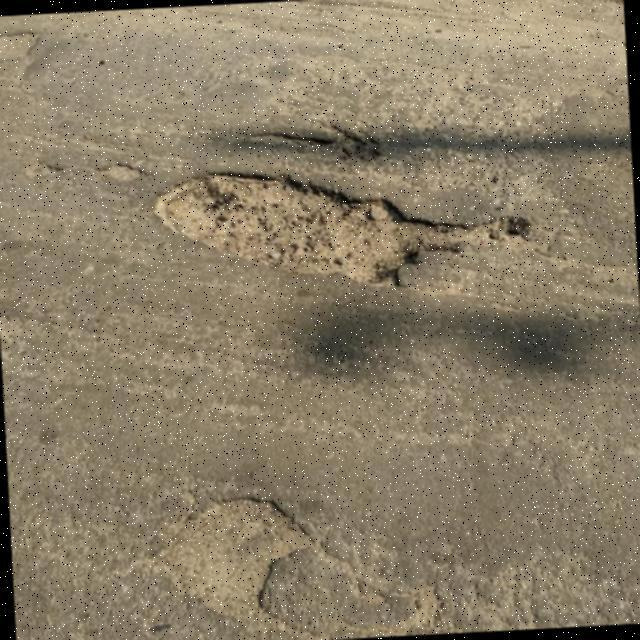Pothole: (154, 175, 531, 288), (154, 500, 313, 640)
